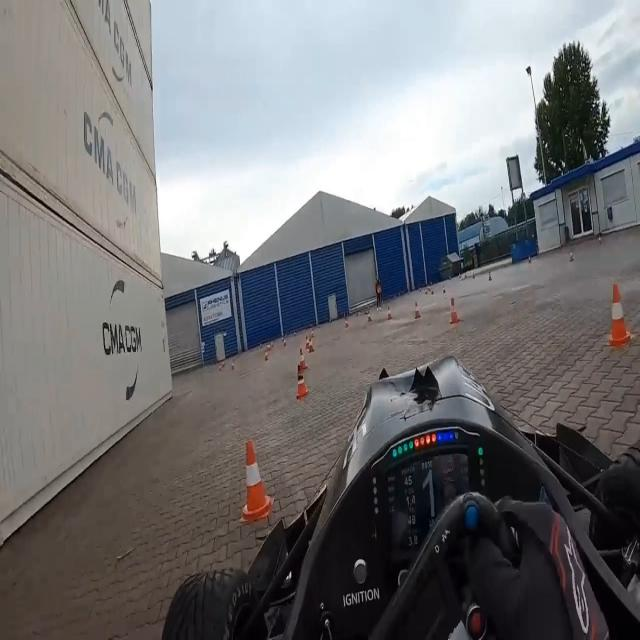Orange cone: (234, 433, 280, 538), (603, 272, 638, 360), (295, 350, 316, 411), (407, 290, 431, 327), (445, 287, 465, 331), (302, 324, 322, 356), (483, 270, 502, 294), (363, 306, 379, 331), (386, 308, 400, 330), (259, 354, 274, 372), (343, 319, 356, 338), (520, 246, 533, 265), (217, 364, 232, 380), (230, 358, 242, 377), (567, 249, 579, 265)
